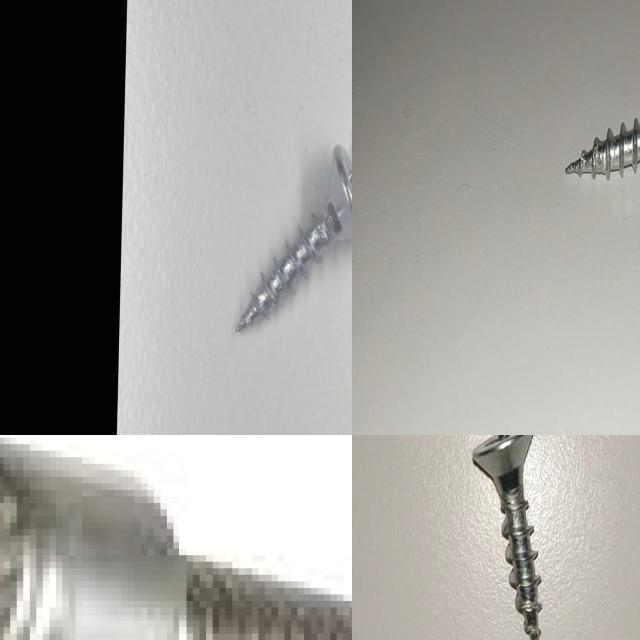Screw: (0, 438, 352, 640), (236, 144, 352, 331), (472, 435, 541, 640), (565, 117, 640, 179)
